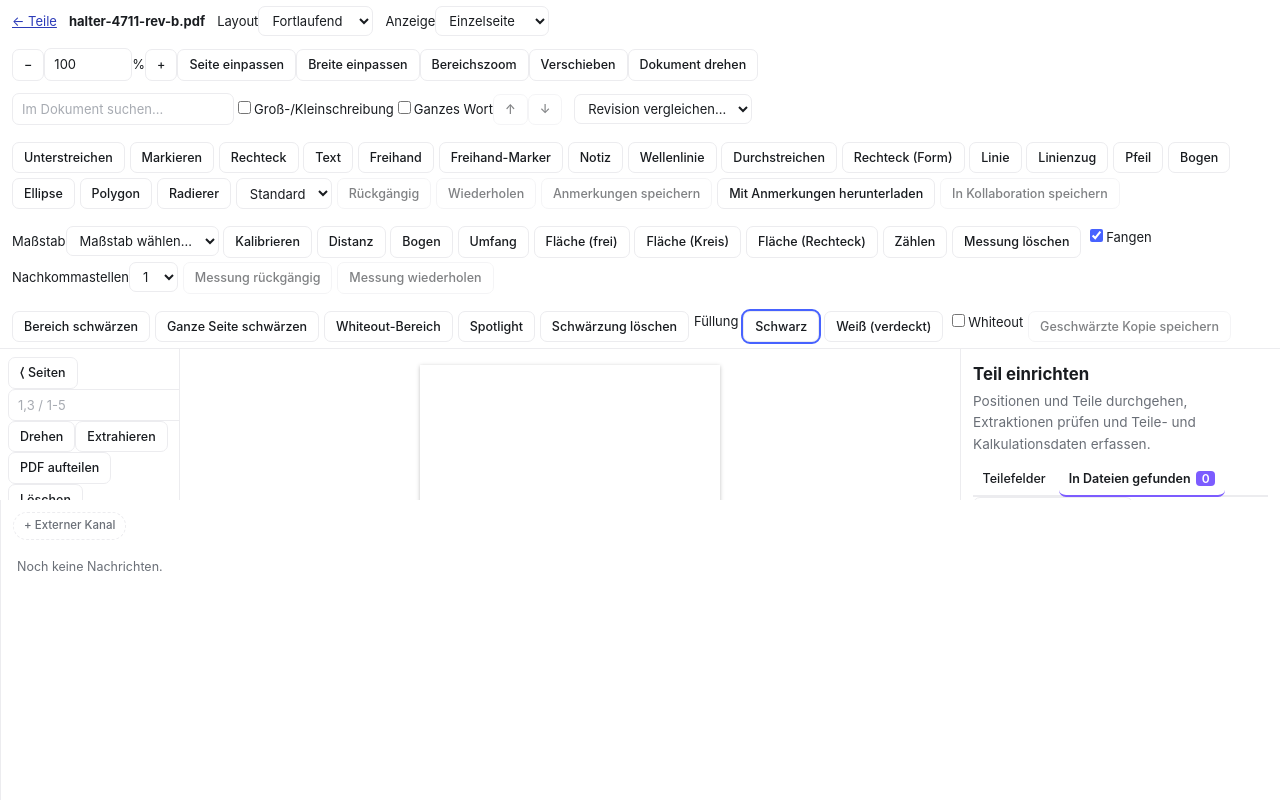
PdfViewerPage annotations › saves the layer through the API and marks it clean
Expected: the text "halter-4711-rev-b.pdf" is shown, x1=69 y1=11 x2=205 y2=31
Click the button "Rechteck".
click(259, 158)  # box x1=219 y1=142 x2=298 y2=173
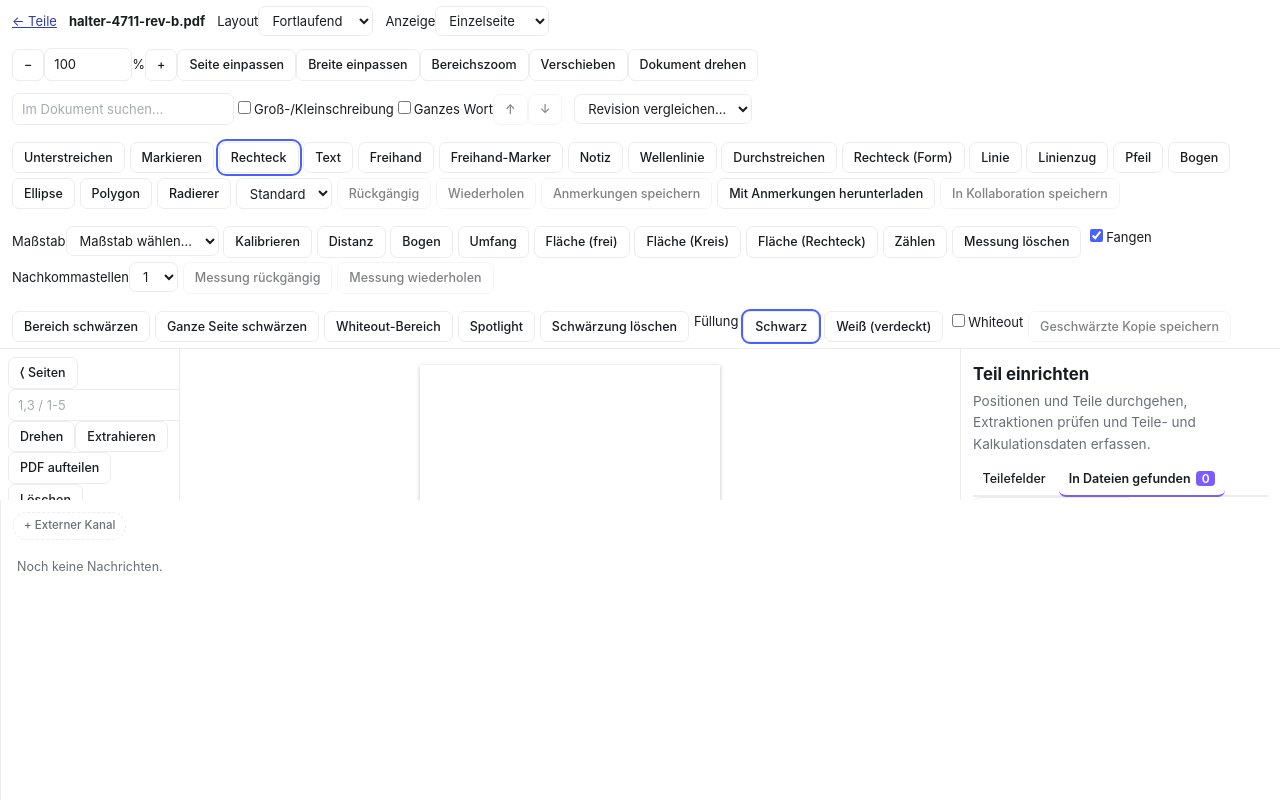
Press the mouse on the icon named "Anmerkungen Seite 1" at x=570, y=443, box x1=420 y1=365 x2=720 y2=520
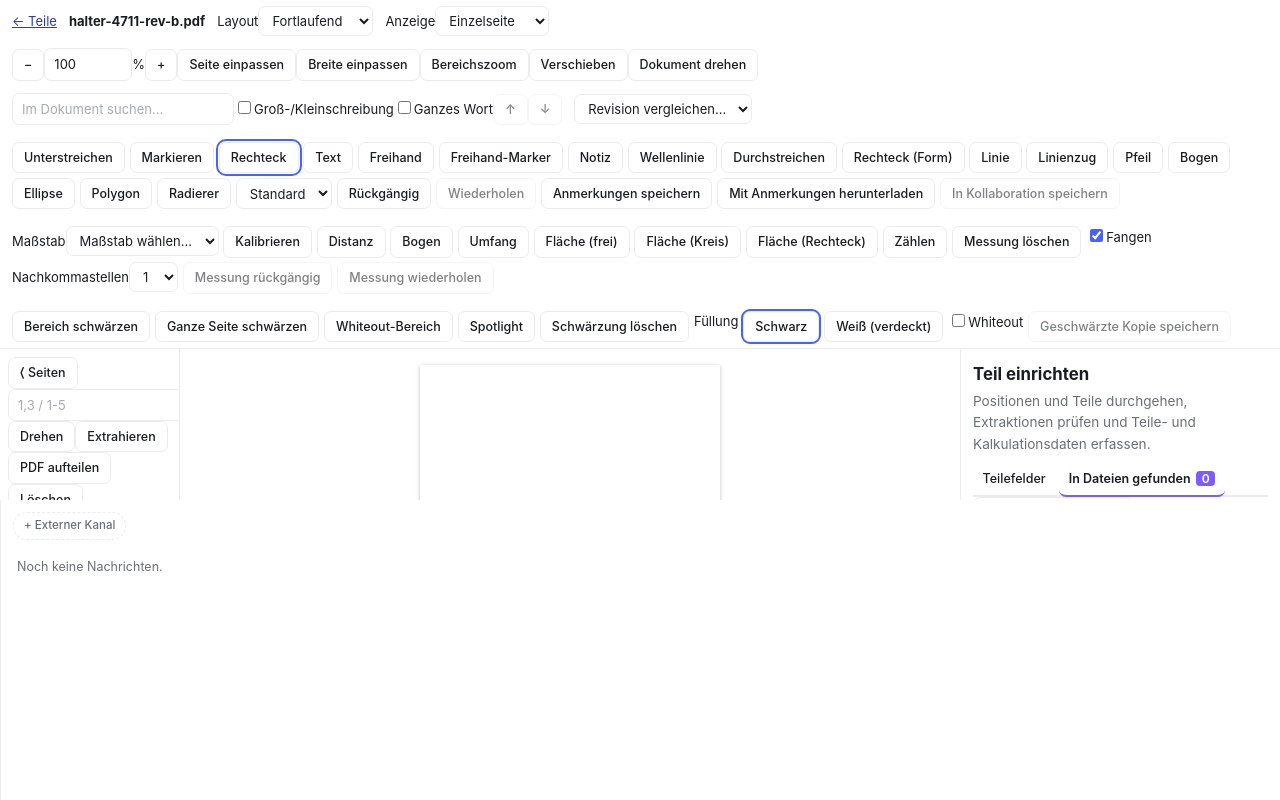
Now the button "Anmerkungen speichern" is enabled
Click the button "Anmerkungen speichern".
click(627, 194)  # box x1=541 y1=178 x2=712 y2=210
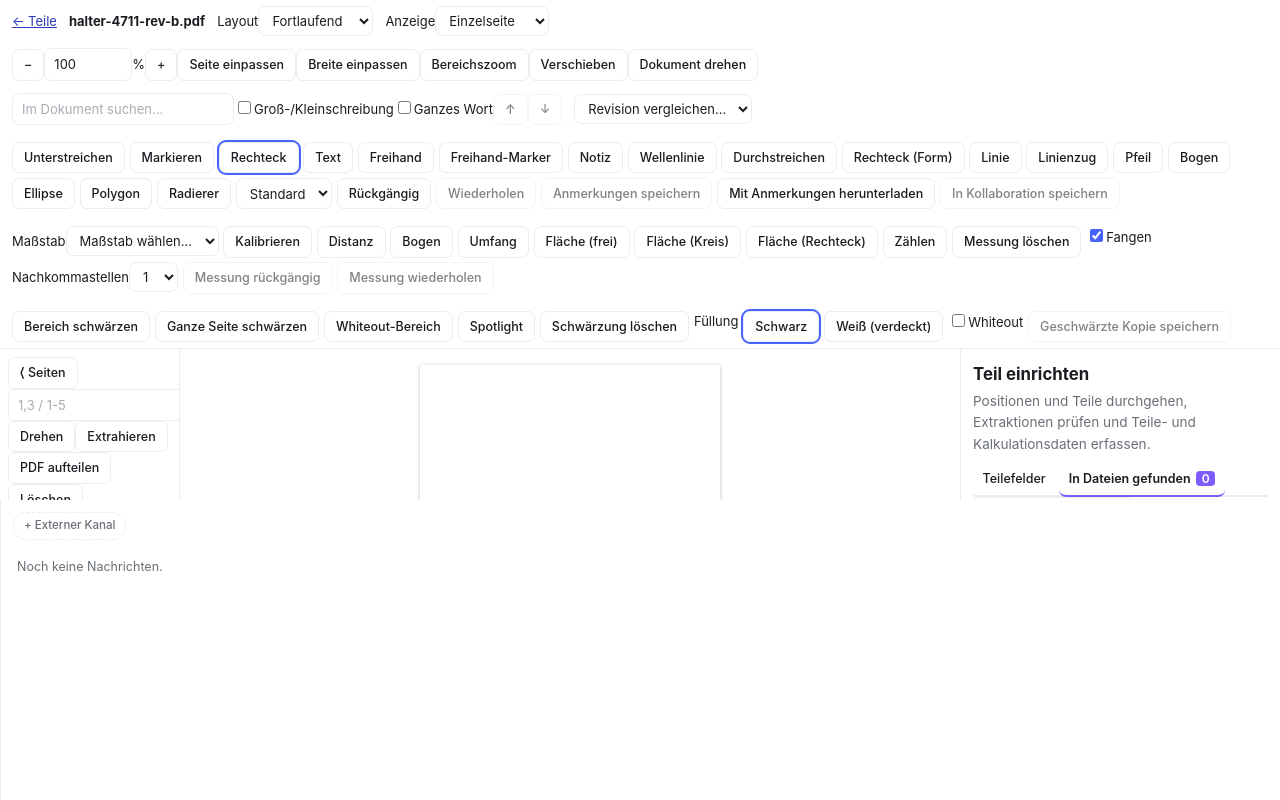
Now the button "Anmerkungen speichern" is disabled, box x1=541 y1=178 x2=712 y2=210
